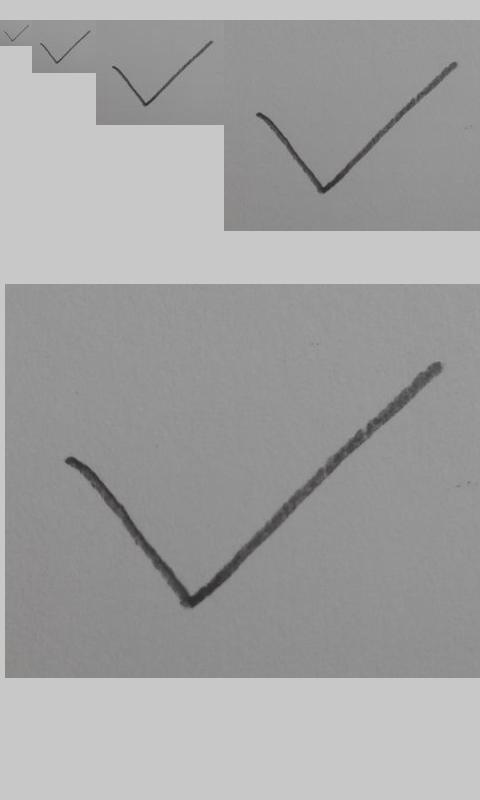check_box: (64, 362, 444, 612), (257, 63, 455, 193), (112, 41, 212, 106), (40, 31, 91, 64), (4, 25, 29, 42)
